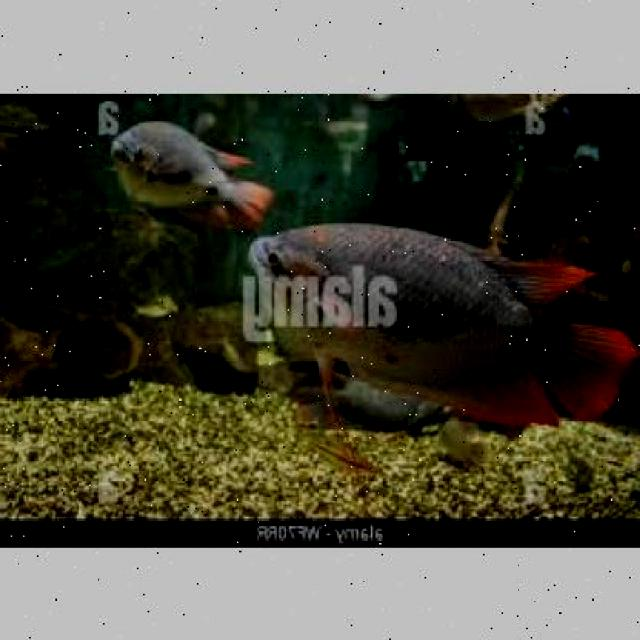gurame: (247, 219, 633, 424), (102, 119, 276, 241)
